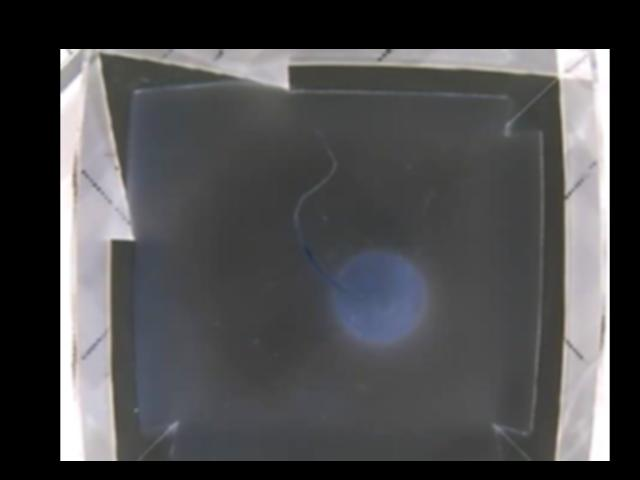Mooli: (335, 249, 423, 341)
